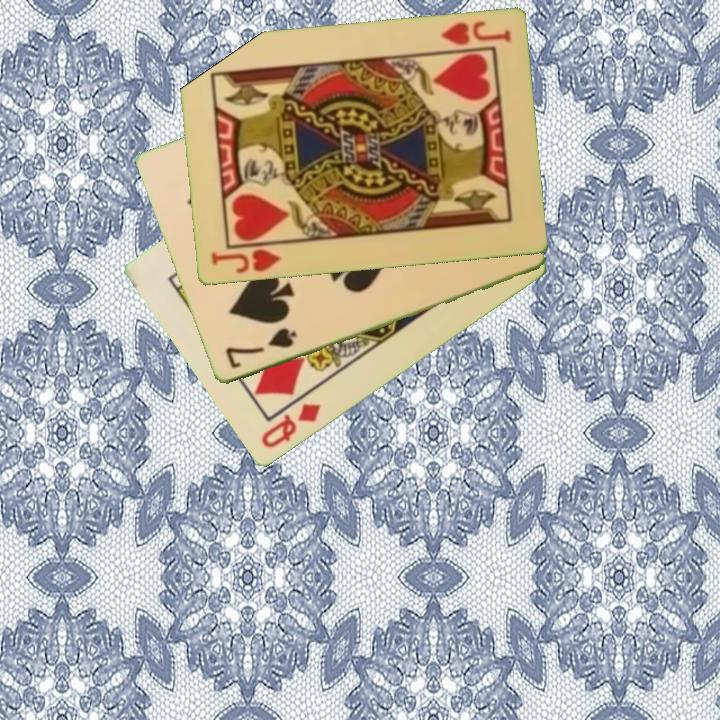7s: (221, 324, 299, 372)
Jh: (436, 18, 514, 49), (207, 246, 284, 277)
Qd: (257, 400, 324, 452)
